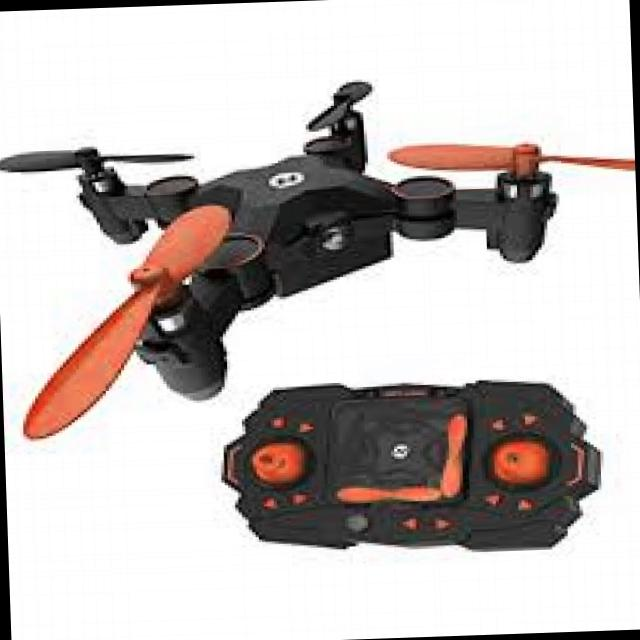drone: (0, 58, 602, 440)
